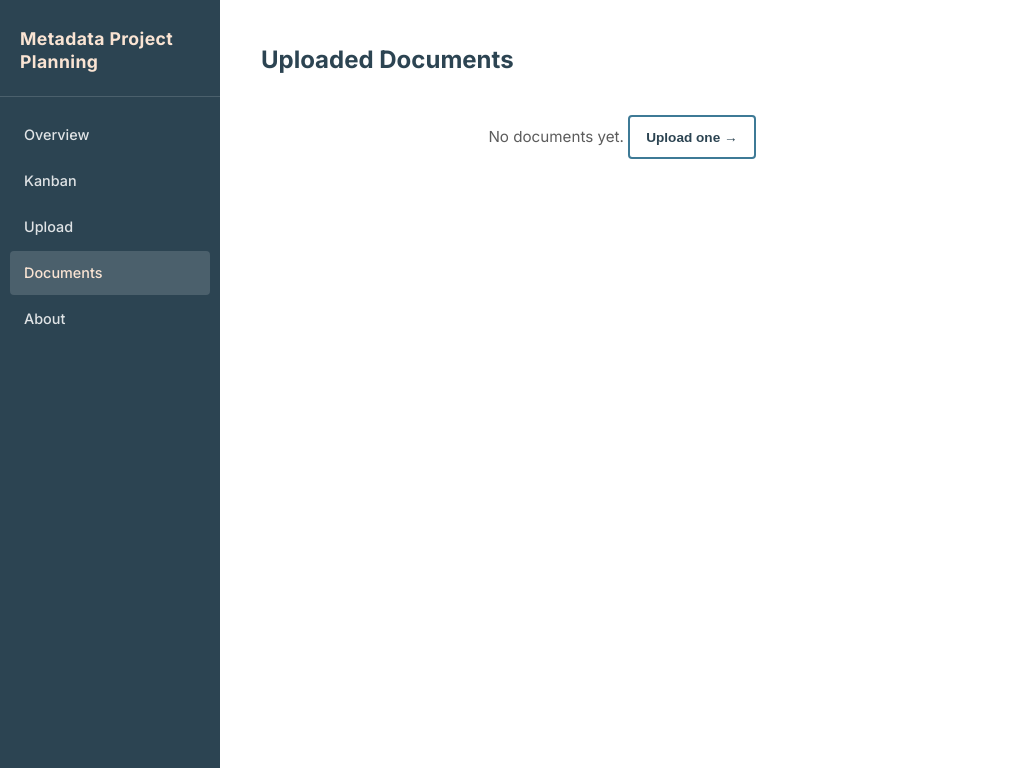
it: App Integration Tests › navigates to Upload page
The image size is (1024, 768).
What coordinates should you click on to do the following:
click the link with aria-label "Upload a new document"
I would click on:
 (49, 227)
Its box is 24,218 -> 73,235.
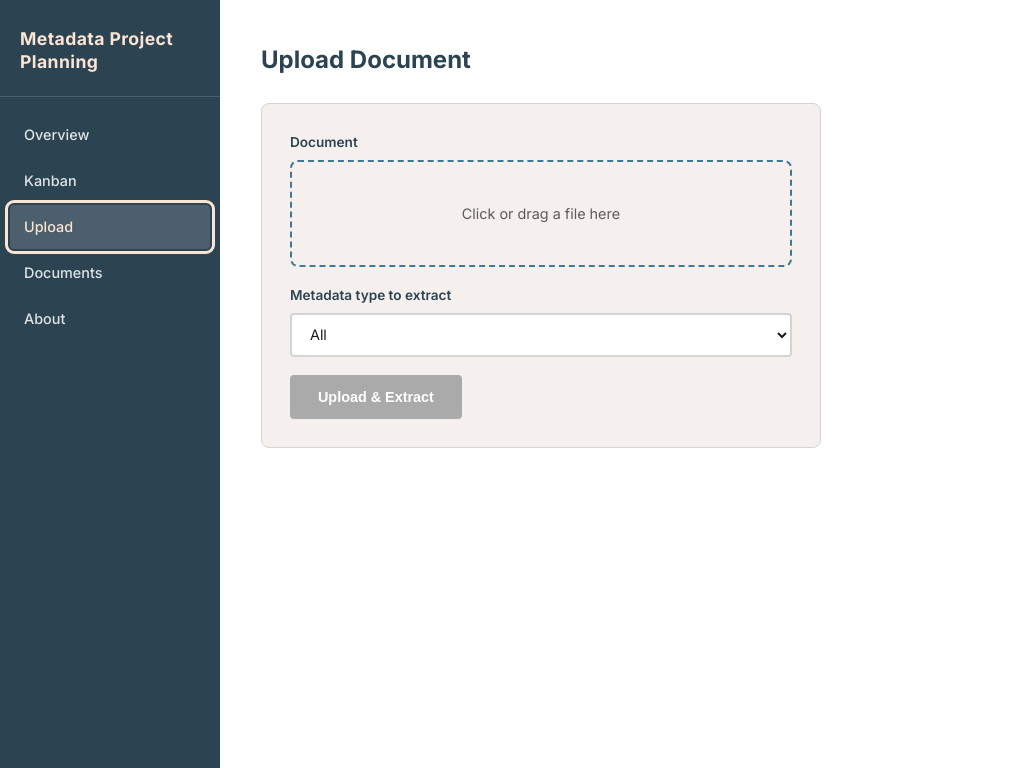
Expected: the heading "Upload Document" is shown, 261,45 -> 471,74
